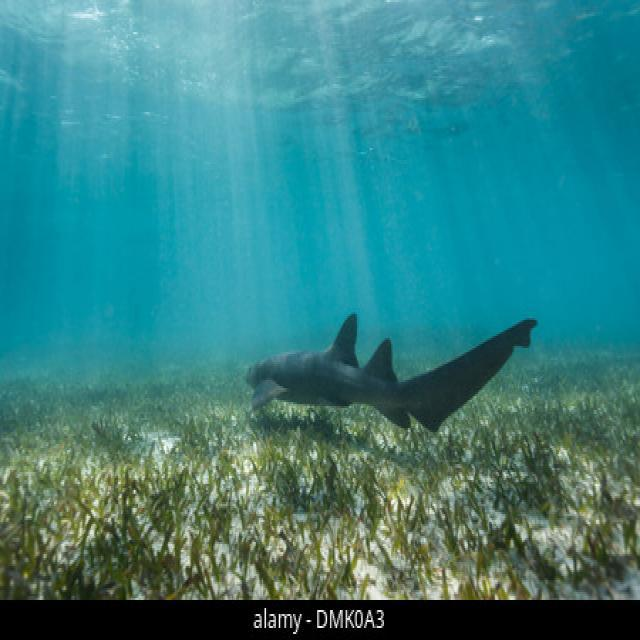Shark: (223, 266, 546, 440)
